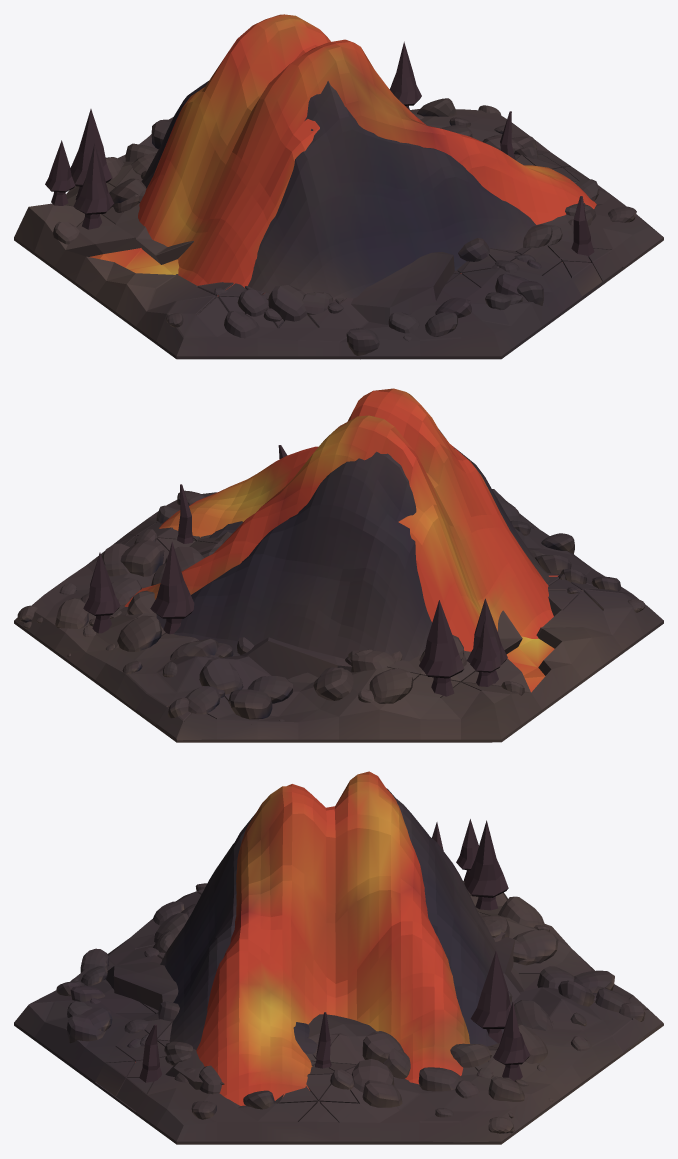
The model's file is scorchedVolcano.glb.
3 renders of one model, top to bottom at view 1: azimuth 30°, elevation 25°; view 2: azimuth 150°, elevation 25°; view 3: azimuth 270°, elevation 25°, orthographic.
Parts seen in each view (by area): view 1: scrochedVolcano; view 2: scrochedVolcano; view 3: scrochedVolcano.
Part boxes in pixels (bbox=[...]): scrochedVolcano: bbox=[14, 14, 663, 359]; scrochedVolcano: bbox=[14, 388, 663, 742]; scrochedVolcano: bbox=[14, 771, 663, 1144].
Size of the model in its own units: 1.73 by 0.8279 by 2.
